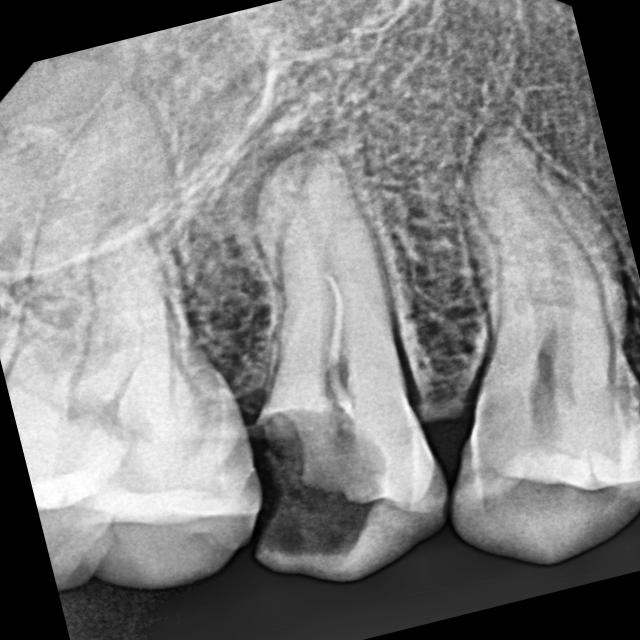Badly Decayed: (197, 348, 445, 616)
